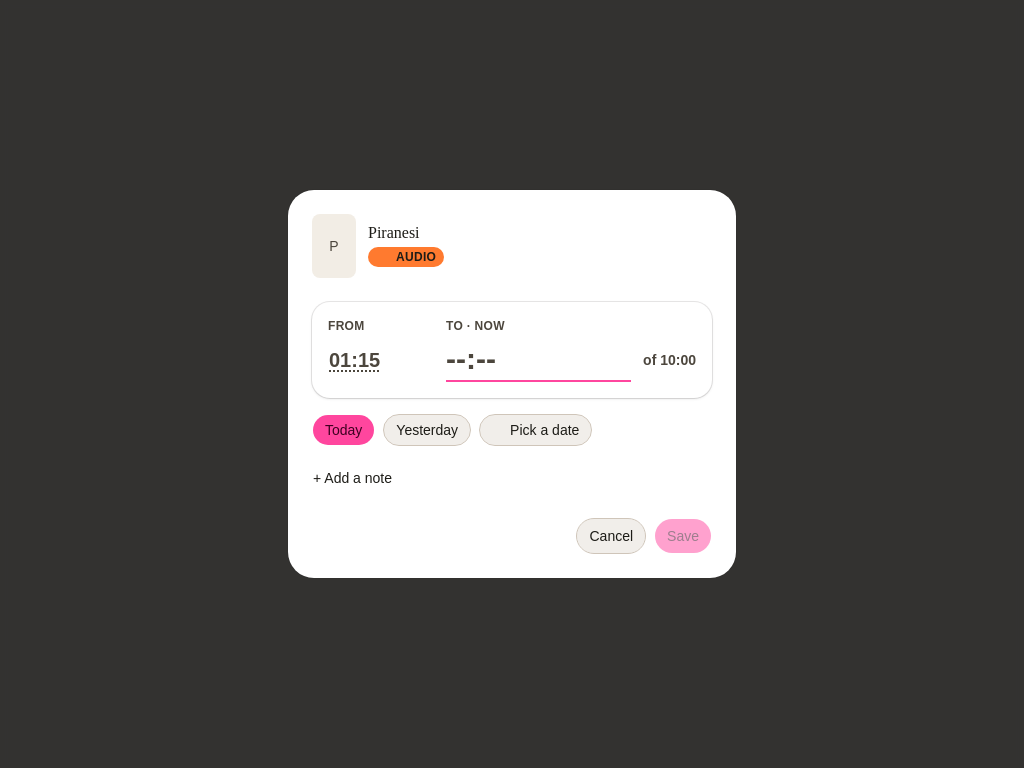
Scenario: ProgressLogSheet › edits the start position in HH:MM on an audio read
Click the button named "Edit start position".
click(355, 360)  # box [328,344,381,376]
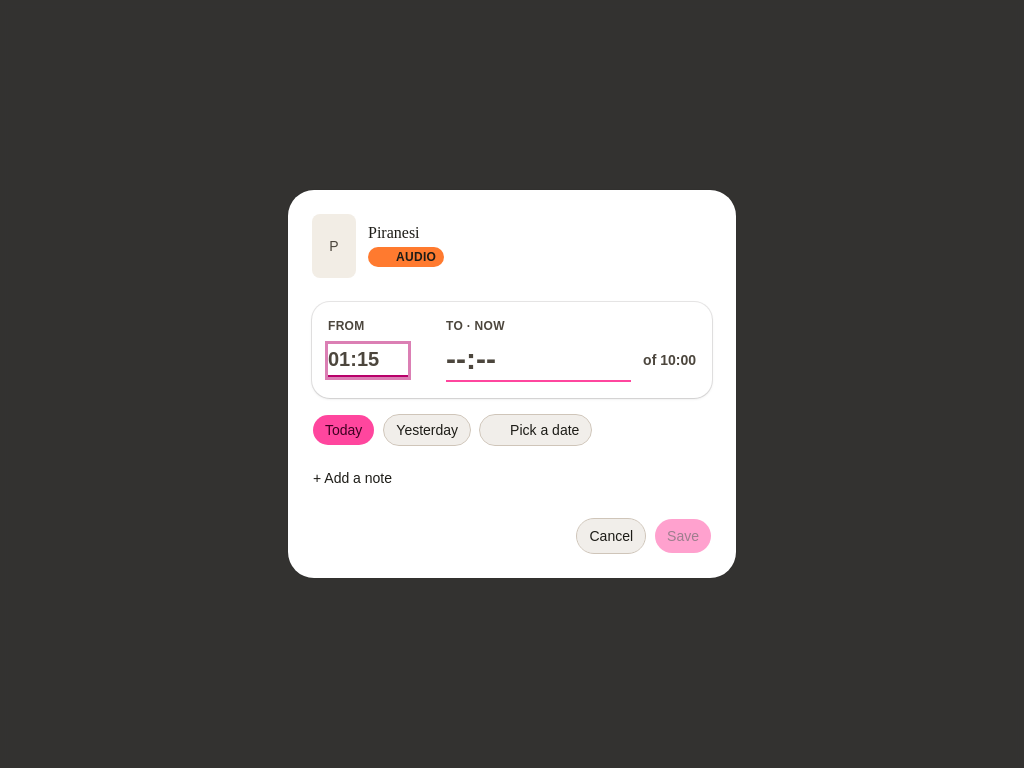
Result: the field named "start position" holds "01:15" at [328,344,408,376]
